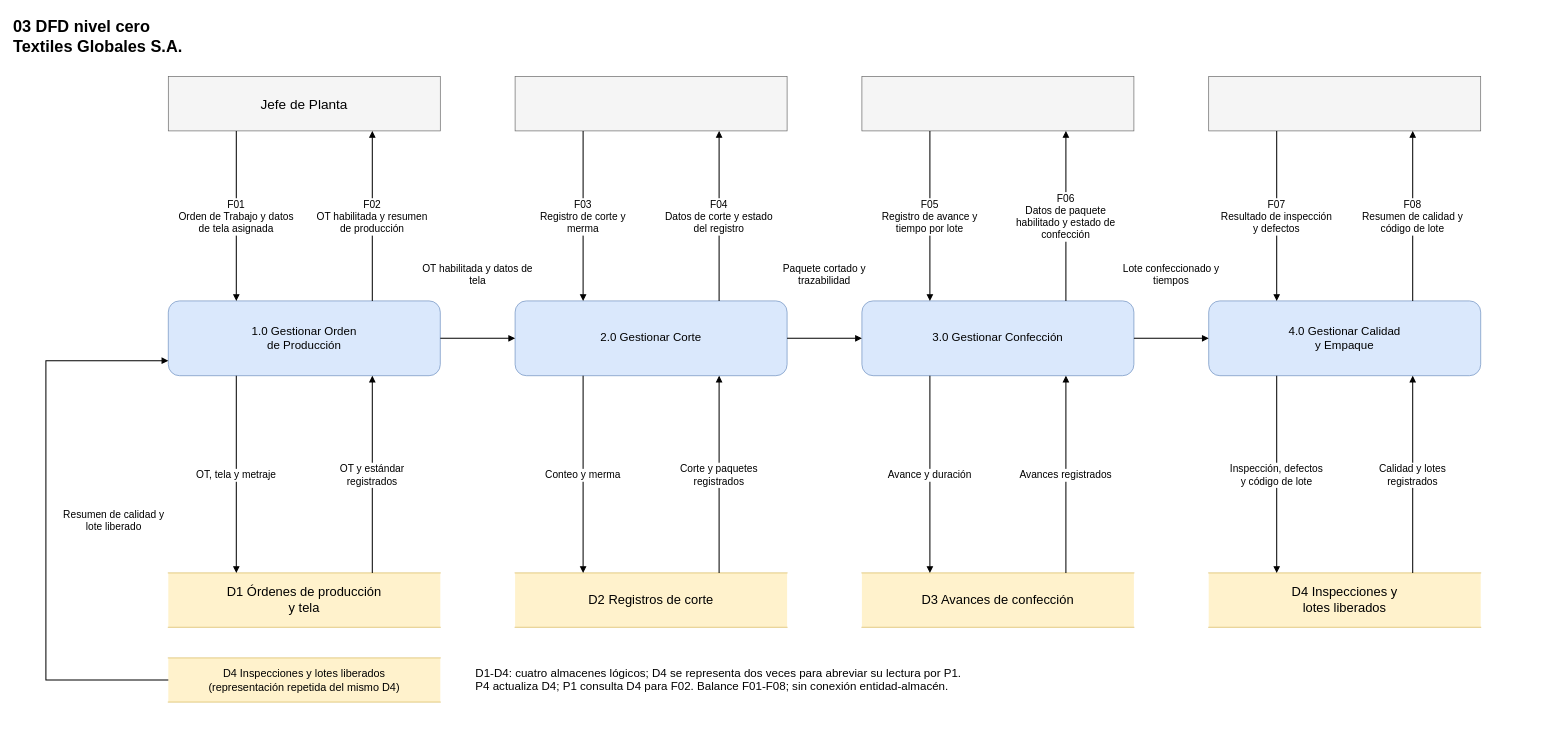
Image size: 1546x741. Some labels were removed from this diagram. Here are the shapes that lost their labels. From the top down, the box of each, then its label:
(514, 76, 787, 131): Operario de Corte
(861, 76, 1134, 131): Operario de Confección
(1208, 76, 1481, 131): Inspector de Calidad
